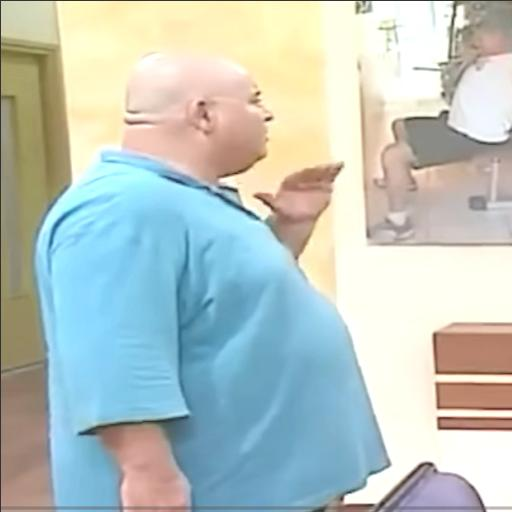sboui: (120, 54, 272, 174)
